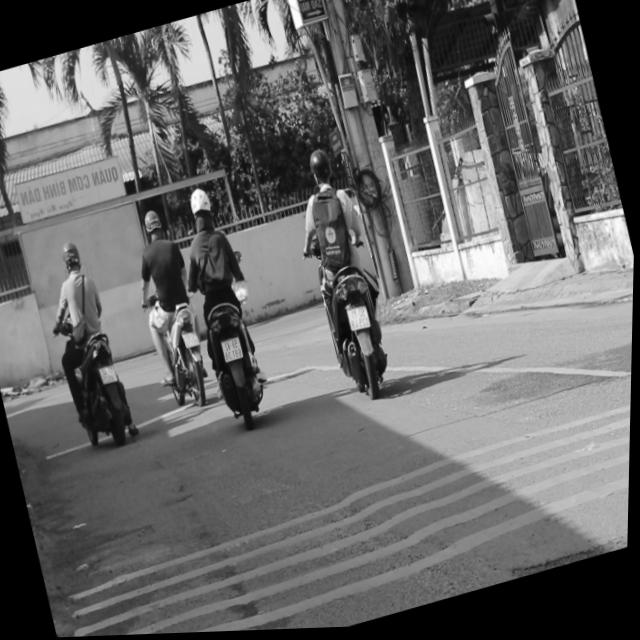helmet: (186, 185, 219, 231), (305, 146, 336, 191), (58, 236, 85, 274)
licenseplate: (278, 136, 408, 407), (166, 176, 284, 433), (31, 228, 145, 454)
nohelmet: (221, 336, 244, 364), (347, 306, 370, 333), (99, 362, 119, 384)
